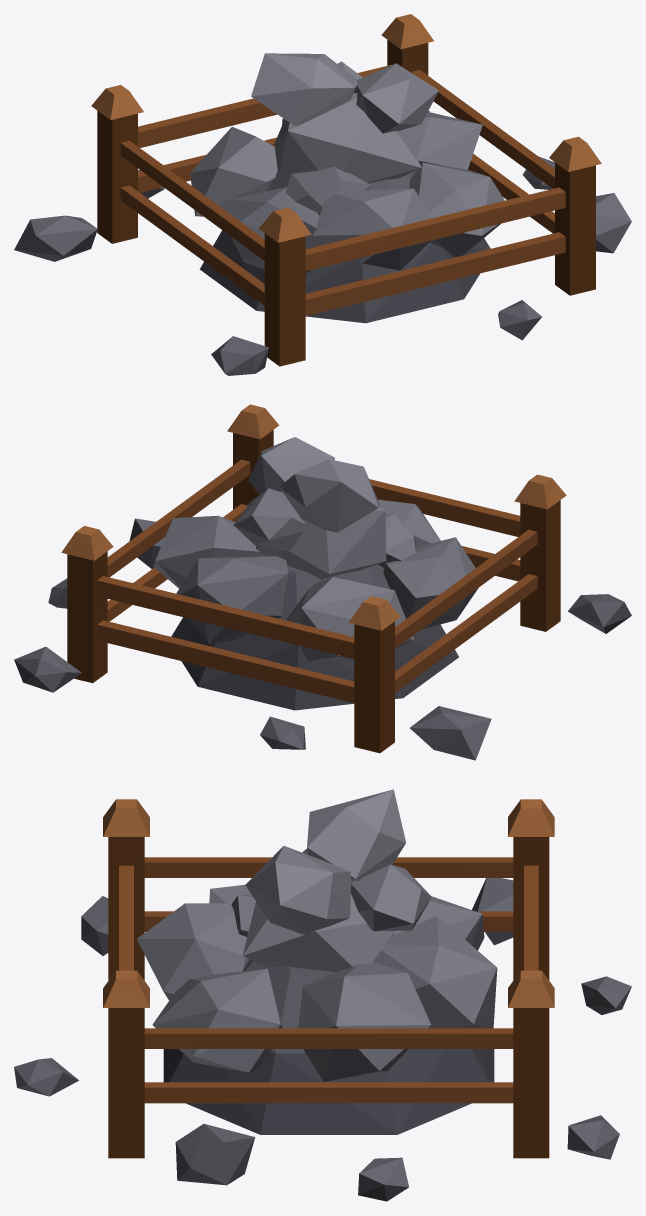
The model's file is stone_stockpile.glb.
The picture shows the model from 3 angles, top to bottom: view 1: azimuth 30°, elevation 25°; view 2: azimuth 150°, elevation 25°; view 3: azimuth 270°, elevation 25°; orthographic projection. The views are drawn at different scales.
Parts seen in each view (by area): view 1: stone_stockpile; view 2: stone_stockpile; view 3: stone_stockpile.
Part boxes in pixels (bbox=[...]): stone_stockpile: bbox=[14, 14, 631, 375]; stone_stockpile: bbox=[14, 404, 631, 760]; stone_stockpile: bbox=[14, 789, 631, 1201].
Bounding box in the file's own units: 3.21 × 1.27 × 2.9.
